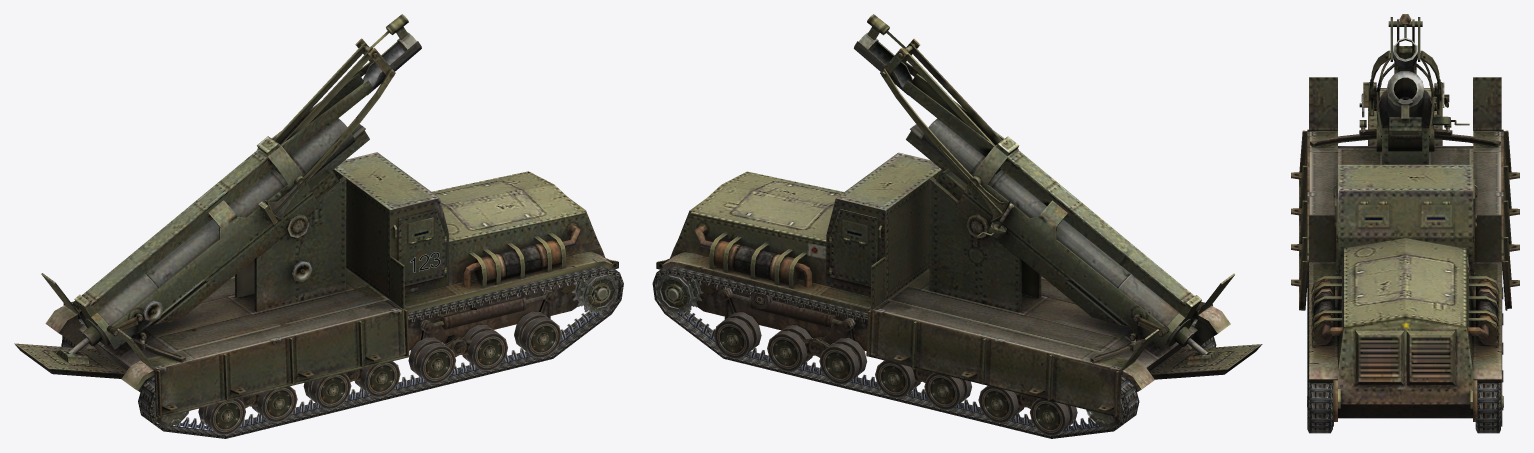
The model's file is artillery.glb.
3 views of the same model, side by side, from view 1: azimuth 30°, elevation 25°; view 2: azimuth 150°, elevation 25°; view 3: azimuth 270°, elevation 25° (orthographic). The views are drawn at different scales.
Visible parts, largest first — view 1: Object_2, Object_9, Object_5, Object_19, Object_4, Object_17, Object_16, Object_15, Object_18, Object_35, Object_33, Object_34 (+6 smaller); view 2: Object_2, Object_9, Object_5, Object_19, Object_3, Object_12, Object_13, Object_14, Object_23, Object_21, Object_11, Object_22 (+6 smaller); view 3: Object_2, Object_5, Object_9, Object_19, Object_15, Object_11, Object_10, Object_16.
Boxes of the visible parts, left/top/right/bottom form: Object_2: left=41, top=152, right=618, bottom=417; Object_9: left=14, top=14, right=421, bottom=378; Object_5: left=432, top=171, right=601, bottom=284; Object_19: left=132, top=176, right=346, bottom=350; Object_4: left=398, top=208, right=445, bottom=286; Object_17: left=159, top=276, right=621, bottom=435; Object_16: left=149, top=271, right=623, bottom=438; Object_15: left=138, top=266, right=621, bottom=436; Object_18: left=159, top=277, right=614, bottom=430; Object_35: left=408, top=337, right=455, bottom=383; Object_33: left=514, top=311, right=561, bottom=357; Object_34: left=462, top=324, right=507, bottom=370; Object_2: left=656, top=152, right=1234, bottom=417; Object_9: left=854, top=14, right=1262, bottom=379; Object_5: left=674, top=171, right=843, bottom=285; Object_19: left=929, top=177, right=1144, bottom=351; Object_3: left=830, top=209, right=877, bottom=286; Object_12: left=652, top=270, right=1127, bottom=438; Object_13: left=655, top=273, right=1124, bottom=435; Object_14: left=664, top=275, right=1117, bottom=430; Object_23: left=819, top=338, right=867, bottom=384; Object_21: left=714, top=312, right=761, bottom=358; Object_11: left=654, top=267, right=1139, bottom=436; Object_22: left=767, top=325, right=812, bottom=371; Object_2: left=1291, top=77, right=1519, bottom=421; Object_5: left=1338, top=238, right=1473, bottom=404; Object_9: left=1359, top=14, right=1469, bottom=145; Object_19: left=1359, top=120, right=1452, bottom=164; Object_15: left=1309, top=263, right=1330, bottom=433; Object_11: left=1477, top=383, right=1499, bottom=433; Object_10: left=1376, top=125, right=1434, bottom=151; Object_16: left=1307, top=267, right=1308, bottom=432.
Bounding box in the file's own units: 181 × 105 × 59.6.
Materials: 41 (41 with a texture image).
